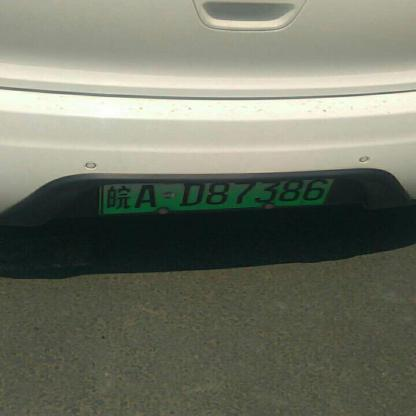lp: (100, 176, 333, 213)
